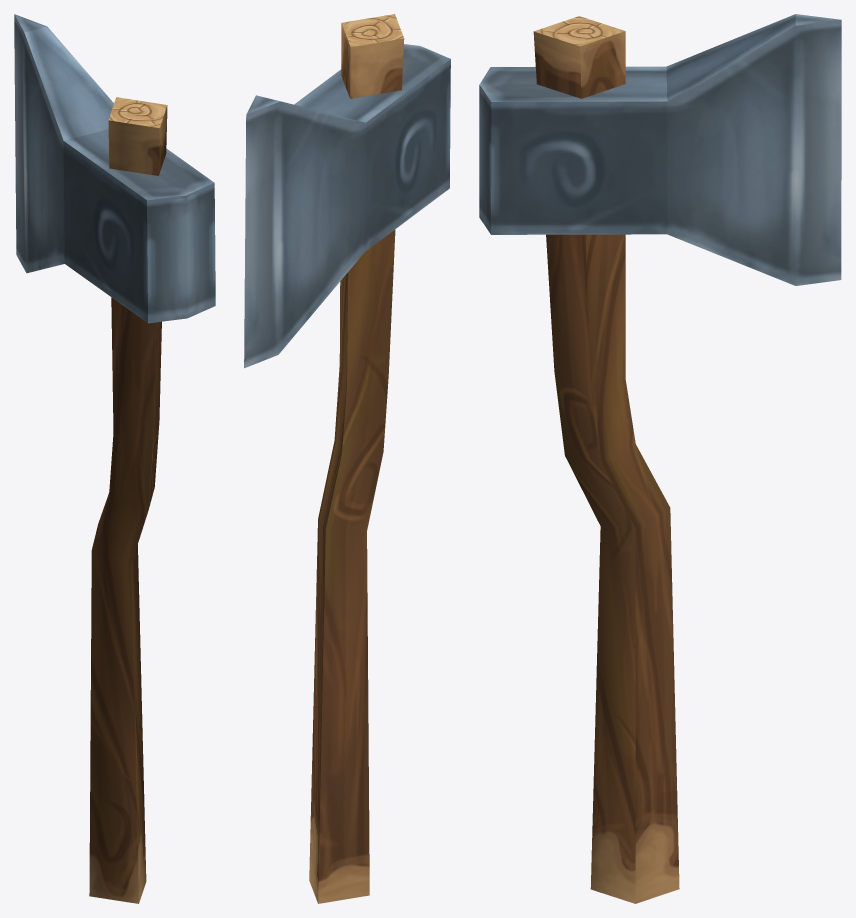
The model's file is axe_01.fbx.
3 views of the same model, side by side, from view 1: azimuth 30°, elevation 25°; view 2: azimuth 150°, elevation 25°; view 3: azimuth 270°, elevation 25° (orthographic). The views are drawn at different scales.
Visible parts, largest first — view 1: axe_01; view 2: axe_01; view 3: axe_01.
Part boxes in pixels (box(x1,y1,x2,y2)): axe_01: box(14, 14, 215, 903); axe_01: box(244, 14, 450, 903); axe_01: box(479, 14, 841, 903).
Size of the model in its own units: 0.282 by 3.08 by 1.17.
